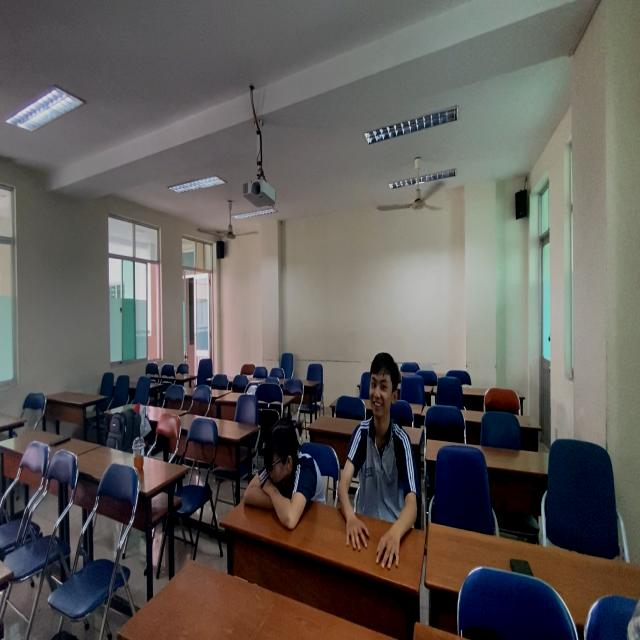sleep: (240, 418, 330, 529)
